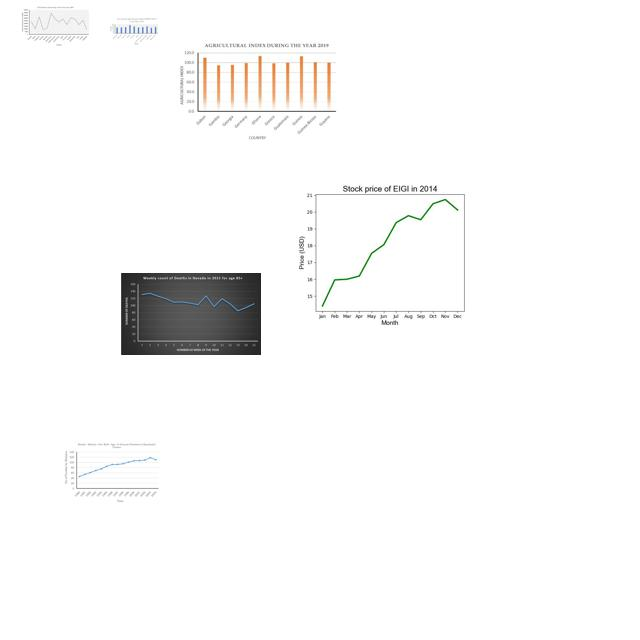Graph: (286, 176, 489, 328), (174, 41, 339, 140), (121, 273, 261, 355), (63, 441, 160, 504), (21, 6, 90, 46), (109, 17, 159, 45)
